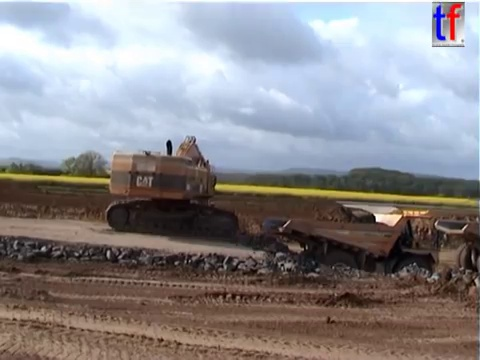excavator: (102, 133, 241, 241)
truck: (259, 206, 443, 296), (432, 216, 480, 280)
